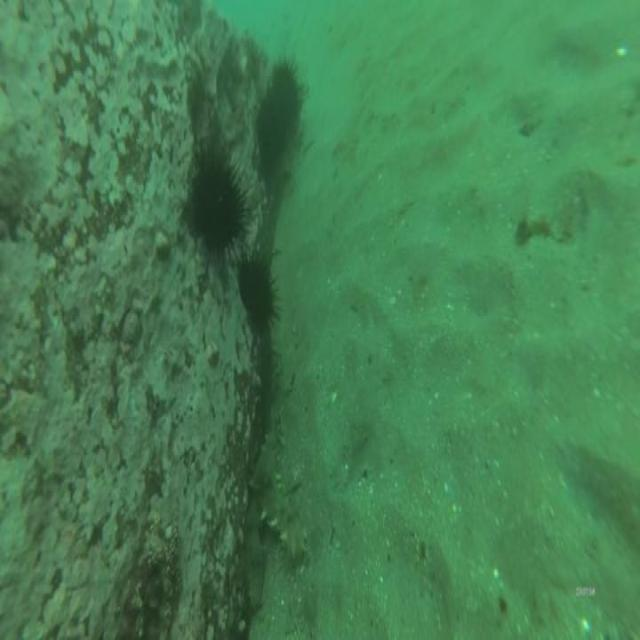echinus: (186, 147, 247, 259), (249, 79, 291, 175), (266, 54, 308, 140), (239, 253, 276, 332)
holothurian: (248, 452, 312, 564)
